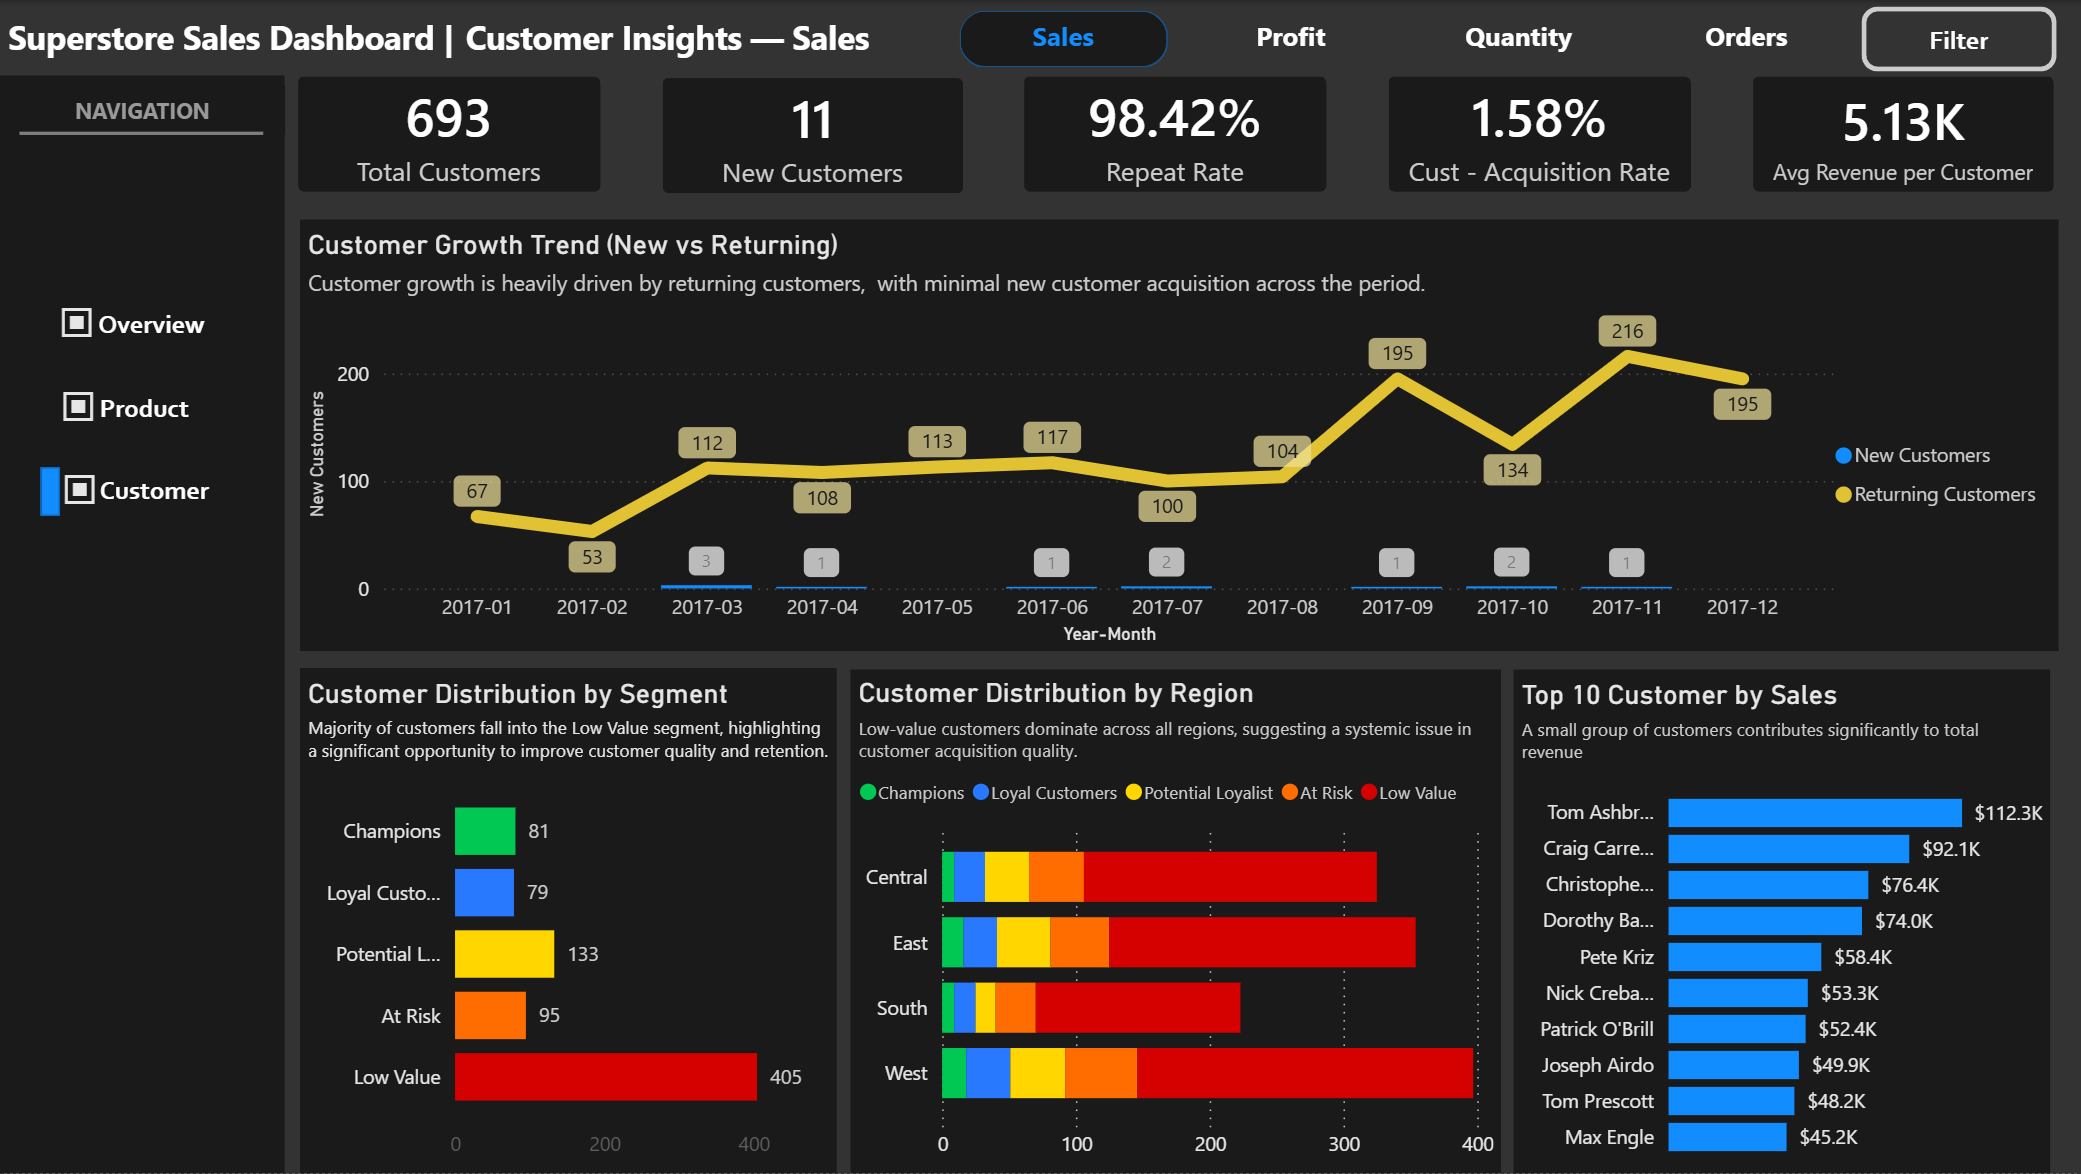

The page's visual inventory and layout, read from the dashboard file:
{"tool":"powerbi","page":{"name":"Customer","canvas":[1280,720],"ordinal":3},"visuals":[{"type":"cardVisual","title":"Card - Orders","fields":{"Data":["Measure.Avg Revenue per Customer"]},"box":[1060.8,28.1,219.2,105.5],"z":0},{"type":"cardVisual","title":"Card - Orders","fields":{"Data":["Measure.Cust - Acquisition Rate"]},"box":[836.7,28.1,220.4,105.5],"z":1000},{"type":"cardVisual","title":"Card - Quantity","fields":{"Data":["Measure.cust - Repeat Rate"]},"box":[612.8,28.6,220.2,105.5],"z":2000},{"type":"cardVisual","title":"Card - Profit","fields":{"Data":["Measure.cust - New Customers"]},"box":[389.9,29.6,219.2,105.5],"z":3000},{"type":"cardVisual","title":"Card - Sales","fields":{"Data":["Measure.Total Customers"]},"box":[165.9,28.7,220.2,105.3],"z":4000},{"type":"actionButton","title":"Tab - Filter","box":[1145,3,120,40],"z":9000},{"type":"shape","title":"Nav - Background","box":[0,45,175,675],"z":10000},{"type":"textbox","title":"Nav - Title","box":[0,51.2,175,30],"z":11000},{"type":"shape","title":"Nav - divider","box":[12.1,52.3,149.9,56.3],"z":12000},{"type":"actionButton","title":"Nav - overview icon","box":[24.3,173.6,46.4,37.9],"z":14000},{"type":"textbox","title":"Nav - overview text","box":[55.5,182.7,110.9,29.1],"z":15000},{"type":"actionButton","title":"Nav - overview btn","box":[20.9,177.3,104.5,40],"z":16000},{"type":"actionButton","title":"Nav - product icon","box":[24.7,225.1,46.4,37.9],"z":18000},{"type":"textbox","title":"Nav - product text","box":[55.8,234.2,110.9,29.1],"z":19000},{"type":"actionButton","title":"Nav - product btn","box":[21.3,228.8,104.5,40],"z":20000},{"type":"shape","title":"Nav - customer Indicator","box":[25.2,285.6,12.1,30.2],"z":21000},{"type":"actionButton","title":"Nav - customer icon","box":[25.4,276.2,46.4,37.9],"z":22000},{"type":"textbox","title":"Nav - customer text","box":[56.6,285.3,110.9,29.1],"z":23000},{"type":"actionButton","title":"Nav - customer btn","box":[22,279.9,104.5,40],"z":24000},{"type":"advancedSlicerVisual","fields":{"Values":["Metric Parameter.Metric Parameter"]},"box":[585,0,560,45],"z":25000},{"type":"clusteredBarChart","fields":{"Y":["Measure.Total Sales"],"Category":["DimCustomer.Customer Name"]},"box":[931,410,330,310],"z":26000},{"type":"clusteredBarChart","title":"Customer Distribution by Segment","fields":{"Y":["Count(DimCustomer.Customer ID)"],"Category":["DimCustomer.Customer Segment"]},"box":[184.1,409.3,330,310.8],"z":27000},{"type":"lineClusteredColumnComboChart","title":"Customer Growth Trend (New vs Returning)","fields":{"Category":["DimDate.Year-Month"],"Y":["Measure.cust - New Customers"],"Y2":["Measure.cust- Returning Customers"]},"box":[184.1,133.8,1081.2,265.5],"z":28000},{"type":"barChart","title":"Customer Distribution by Region","fields":{"Category":["DimGeo.Region"],"Y":["Count(FactSales.Customer ID)"],"Series":["DimCustomer.Customer Segment"]},"box":[522.5,410,400,310],"z":29000},{"type":"shape","box":[281,0,293,43],"z":31000},{"type":"shape","box":[0,0,284,43],"z":32000}]}

Visuals, with their boxes in screenshot pixels (x1, y1, x2, y2), scaled from the page's 1280x720 canvas onto the 2081x1174 screenshot:
"Card - Orders" cardVisual: l=1725, t=46, r=2080, b=218
"Card - Orders" cardVisual: l=1360, t=46, r=1719, b=218
"Card - Quantity" cardVisual: l=996, t=47, r=1354, b=219
"Card - Profit" cardVisual: l=634, t=48, r=990, b=220
"Card - Sales" cardVisual: l=270, t=47, r=628, b=218
"Tab - Filter" actionButton: l=1862, t=5, r=2057, b=70
"Nav - Background" shape: l=0, t=73, r=285, b=1173
"Nav - Title" textbox: l=0, t=83, r=285, b=132
"Nav - divider" shape: l=20, t=85, r=263, b=177
"Nav - overview icon" actionButton: l=40, t=283, r=115, b=345
"Nav - overview text" textbox: l=90, t=298, r=271, b=345
"Nav - overview btn" actionButton: l=34, t=289, r=204, b=354
"Nav - product icon" actionButton: l=40, t=367, r=116, b=429
"Nav - product text" textbox: l=91, t=382, r=271, b=429
"Nav - product btn" actionButton: l=35, t=373, r=205, b=438
"Nav - customer Indicator" shape: l=41, t=466, r=61, b=515
"Nav - customer icon" actionButton: l=41, t=450, r=117, b=512
"Nav - customer text" textbox: l=92, t=465, r=272, b=513
"Nav - customer btn" actionButton: l=36, t=456, r=206, b=522
advancedSlicerVisual - Metric Parameter.Metric Parameter: l=951, t=0, r=1862, b=73
clusteredBarChart - Measure.Total Sales x DimCustomer.Customer Name: l=1514, t=669, r=2050, b=1173
"Customer Distribution by Segment" clusteredBarChart: l=299, t=667, r=836, b=1173
"Customer Growth Trend (New vs Returning)" lineClusteredColumnComboChart: l=299, t=218, r=2057, b=651
"Customer Distribution by Region" barChart: l=849, t=669, r=1500, b=1173
shape: l=457, t=0, r=933, b=70
shape: l=0, t=0, r=462, b=70
